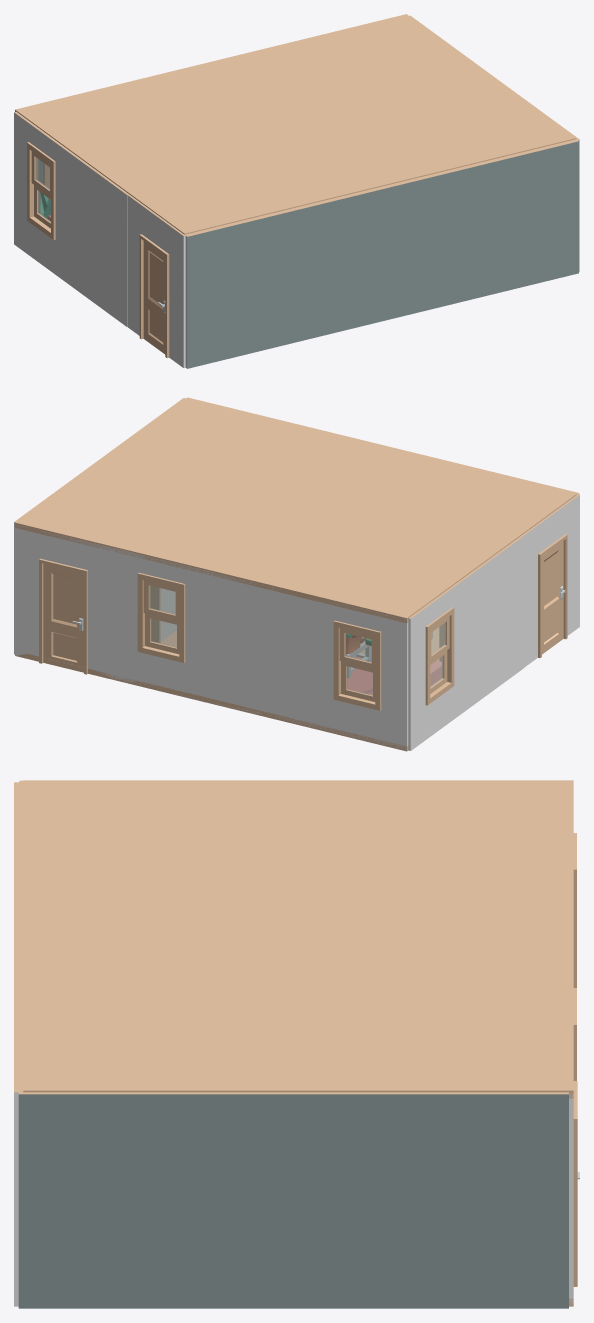
The model's file is Room.glb.
The picture shows the model from 3 angles, top to bottom: view 1: azimuth 30°, elevation 25°; view 2: azimuth 150°, elevation 25°; view 3: azimuth 270°, elevation 25°; orthographic projection. The views are drawn at different scales.
Parts seen in each view (by area): view 1: wall (9), wall (8), wall (7), wall (10), wall (4), wallWindowSlide (1), floorFull (11), floorFull (10), floorFull (8), floorFull (9), floorFull (2), floorFull (5) (+11 smaller); view 2: wall (2), wallWindowSlide, wallWindowSlide (2), wall (4), wallDoorway (1), wallWindowSlide (1), floorFull (3) (×2), floorFull (5) (×2), floorFull (4) (×2), floorFull (7) (×2), door (×2), floorFull (11) (+13 smaller); view 3: wall (11), wall (5), wall (6), floorFull (7), floorFull (9), floorFull (6), floorFull (8), floorFull (3), floorFull (1), floorFull (10), floorFull (4), floorFull (2) (+8 smaller).
Boxes of the visible parts, bbox=[...] form: wall (9): bbox=[185, 211, 285, 368]; wall (8): bbox=[283, 187, 383, 344]; wall (7): bbox=[381, 163, 480, 320]; wall (10): bbox=[478, 139, 578, 297]; wall (4): bbox=[70, 153, 128, 326]; wallWindowSlide (1): bbox=[14, 111, 72, 285]; floorFull (11): bbox=[128, 168, 282, 234]; floorFull (10): bbox=[226, 144, 380, 210]; floorFull (8): bbox=[324, 120, 478, 186]; floorFull (9): bbox=[422, 97, 575, 162]; floorFull (2): bbox=[71, 127, 225, 192]; floorFull (5): bbox=[15, 85, 168, 151]; wall (2): bbox=[211, 572, 308, 727]; wallWindowSlide: bbox=[309, 597, 408, 750]; wallWindowSlide (2): bbox=[113, 547, 210, 703]; wall (4): bbox=[465, 535, 523, 709]; wallDoorway (1): bbox=[15, 524, 112, 678]; wallWindowSlide (1): bbox=[408, 577, 467, 750]; floorFull (3) (×2): bbox=[113, 505, 266, 703]; floorFull (5) (×2): bbox=[309, 553, 463, 751]; floorFull (4) (×2): bbox=[211, 529, 364, 727]; floorFull (7) (×2): bbox=[15, 481, 169, 679]; door (×2): bbox=[43, 541, 565, 667]; floorFull (11): bbox=[422, 470, 576, 536]; wall (11): bbox=[18, 1091, 201, 1308]; wall (5): bbox=[202, 1092, 385, 1308]; wall (6): bbox=[385, 1092, 568, 1308]; floorFull (7): bbox=[390, 1013, 573, 1098]; floorFull (9): bbox=[23, 1013, 206, 1092]; floorFull (6): bbox=[206, 1013, 389, 1092]; floorFull (8): bbox=[23, 935, 206, 1012]; floorFull (3): bbox=[390, 935, 573, 1012]; floorFull (1): bbox=[206, 858, 389, 935]; floorFull (10): bbox=[23, 858, 206, 935]; floorFull (4): bbox=[390, 858, 573, 935]; floorFull (2): bbox=[206, 780, 389, 857].
Bounding box in the file's own units: 40.82 × 13 × 30.85.
